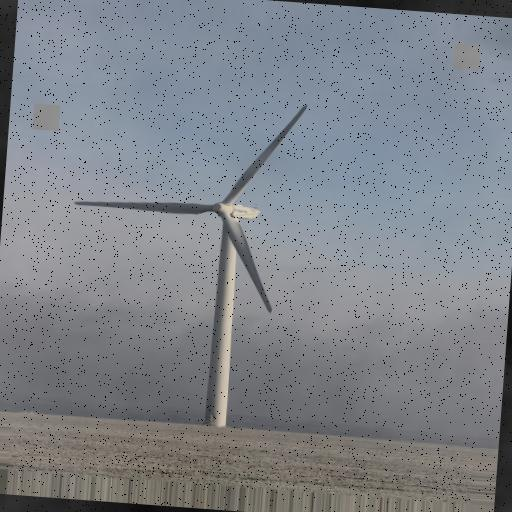wind turbine: (74, 104, 312, 429)
